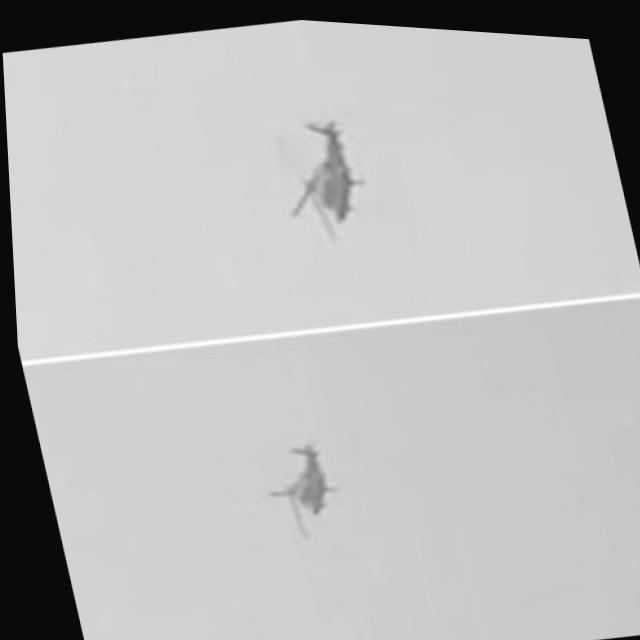helikopter: (255, 99, 389, 250), (243, 426, 351, 549)
